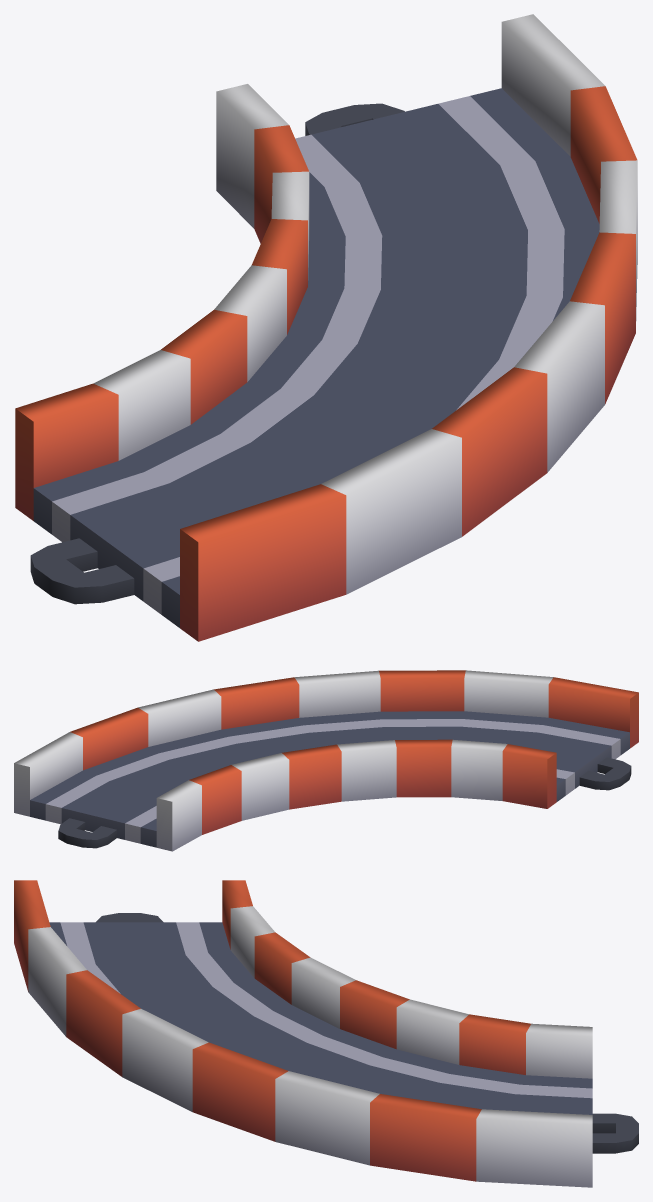
The model's file is track-road-narrow-corner-small.glb.
The picture shows the model from 3 angles, top to bottom: view 1: azimuth 30°, elevation 25°; view 2: azimuth 150°, elevation 25°; view 3: azimuth 270°, elevation 25°; orthographic projection. The views are drawn at different scales.
Visible parts, largest first — view 1: track-road-narrow-corner-small; view 2: track-road-narrow-corner-small; view 3: track-road-narrow-corner-small.
Boxes of the visible parts, x1,y1,x2,y2 form: track-road-narrow-corner-small: (15, 14, 637, 641); track-road-narrow-corner-small: (14, 670, 638, 851); track-road-narrow-corner-small: (14, 880, 638, 1187).
Size of the model in its own units: 2.7 by 0.3 by 2.7.
